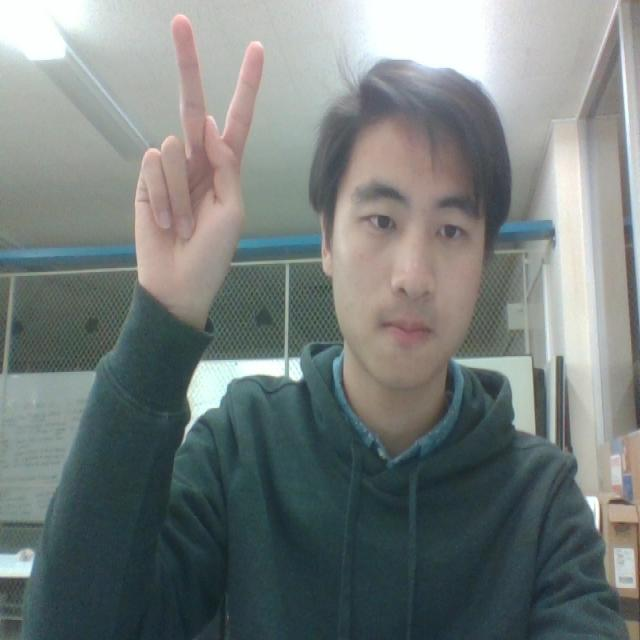K: (114, 0, 308, 343)
